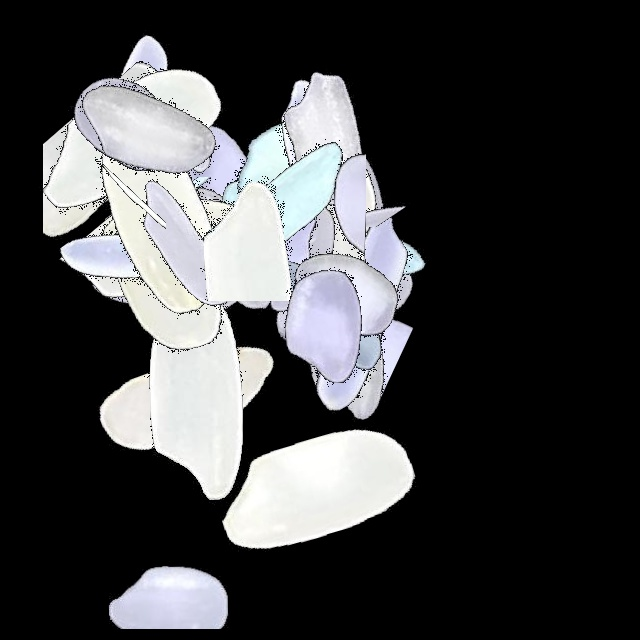Broken: (55, 184, 305, 356), (43, 55, 202, 305), (240, 109, 396, 359), (0, 183, 250, 338), (41, 477, 291, 629), (105, 90, 256, 340), (212, 101, 362, 351), (179, 104, 322, 354), (209, 262, 459, 402), (252, 85, 381, 335), (0, 82, 250, 204), (256, 137, 374, 387), (248, 83, 366, 333), (121, 195, 371, 307), (205, 31, 317, 281), (247, 176, 497, 284), (234, 120, 484, 227), (89, 177, 339, 279), (284, 176, 373, 426), (292, 164, 378, 414), (81, 116, 166, 366), (186, 174, 436, 252)
Full: (94, 55, 344, 305), (235, 147, 485, 397), (23, 150, 273, 400), (97, 126, 347, 376), (0, 0, 250, 250), (66, 275, 316, 525), (97, 146, 347, 396), (230, 89, 480, 339), (194, 111, 444, 361), (72, 274, 322, 524), (219, 227, 469, 477), (34, 132, 284, 382), (196, 168, 446, 418), (234, 186, 484, 436), (197, 42, 447, 292), (27, 122, 277, 372), (170, 129, 420, 379), (3, 13, 253, 263), (29, 95, 279, 345), (209, 184, 459, 434), (207, 14, 457, 264), (144, 95, 394, 345), (189, 364, 439, 614), (58, 119, 308, 369), (220, 167, 470, 417), (22, 2, 272, 252), (197, 201, 447, 451)
